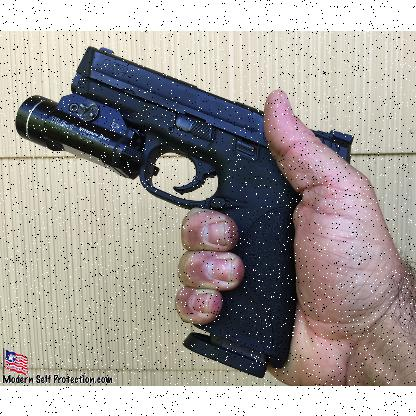gun: (14, 43, 354, 378), (13, 44, 354, 378)
